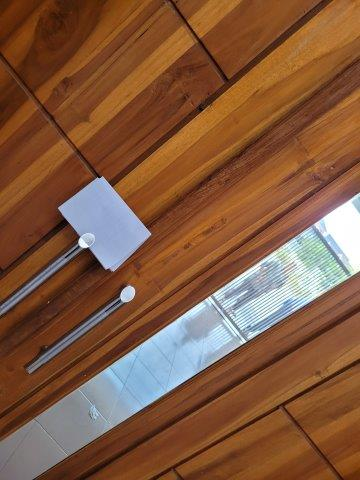kertas: (57, 177, 152, 272)
